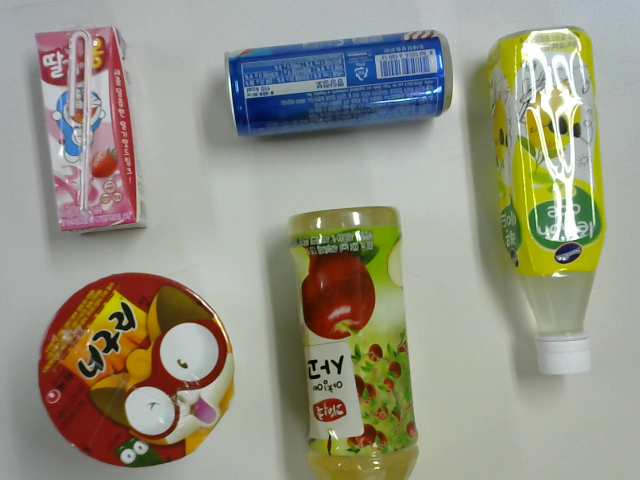Morning_Apple_500ml: (287, 204, 430, 480)
Pepsi_Cola_Can_250ml: (219, 28, 455, 142)
Raccoon: (37, 278, 237, 470)
Strawberry_E_Mong: (35, 26, 147, 236)
Sunkist_Lemonaid_Pet: (483, 22, 611, 396)
